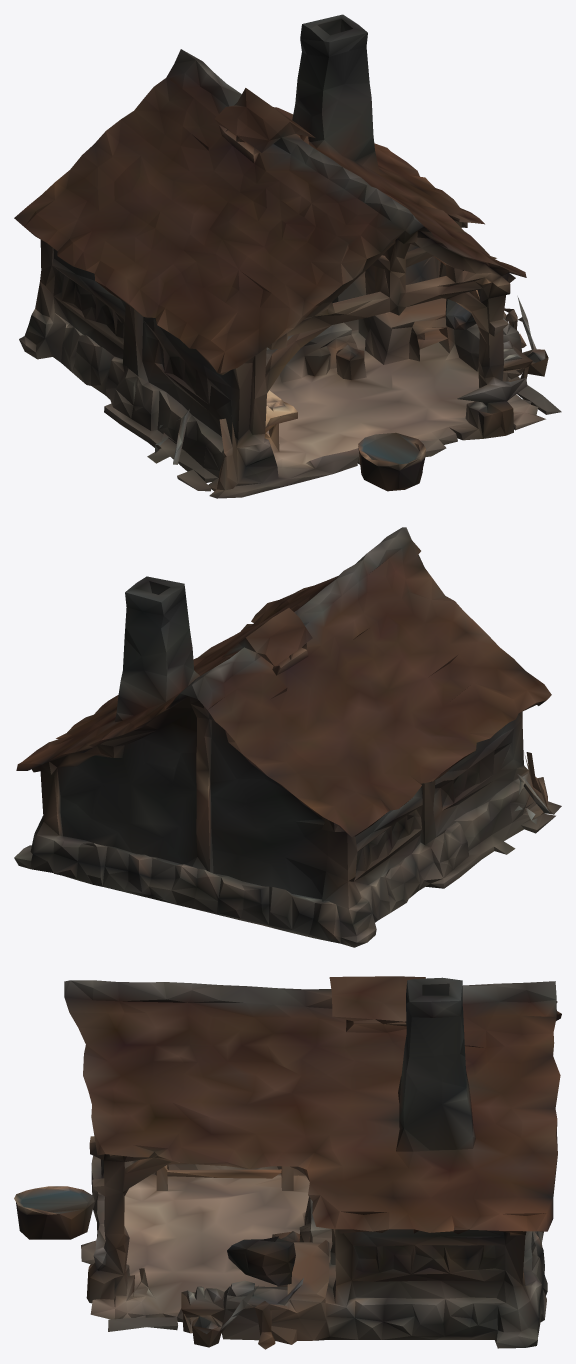
File: bq_forge.vc.glb
The picture shows the model from 3 angles, top to bottom: view 1: azimuth 30°, elevation 25°; view 2: azimuth 150°, elevation 25°; view 3: azimuth 270°, elevation 25°; orthographic projection. The views are drawn at different scales.
Parts seen in each view (by area): view 1: bq_forge; view 2: bq_forge; view 3: bq_forge.
Boxes of the visible parts, left/top/right/bottom form: bq_forge: left=14, top=14, right=561, bottom=498; bq_forge: left=14, top=527, right=561, bottom=947; bq_forge: left=14, top=976, right=561, bottom=1349.
Bounding box in the file's own units: 1.71 × 1.17 × 1.9.
